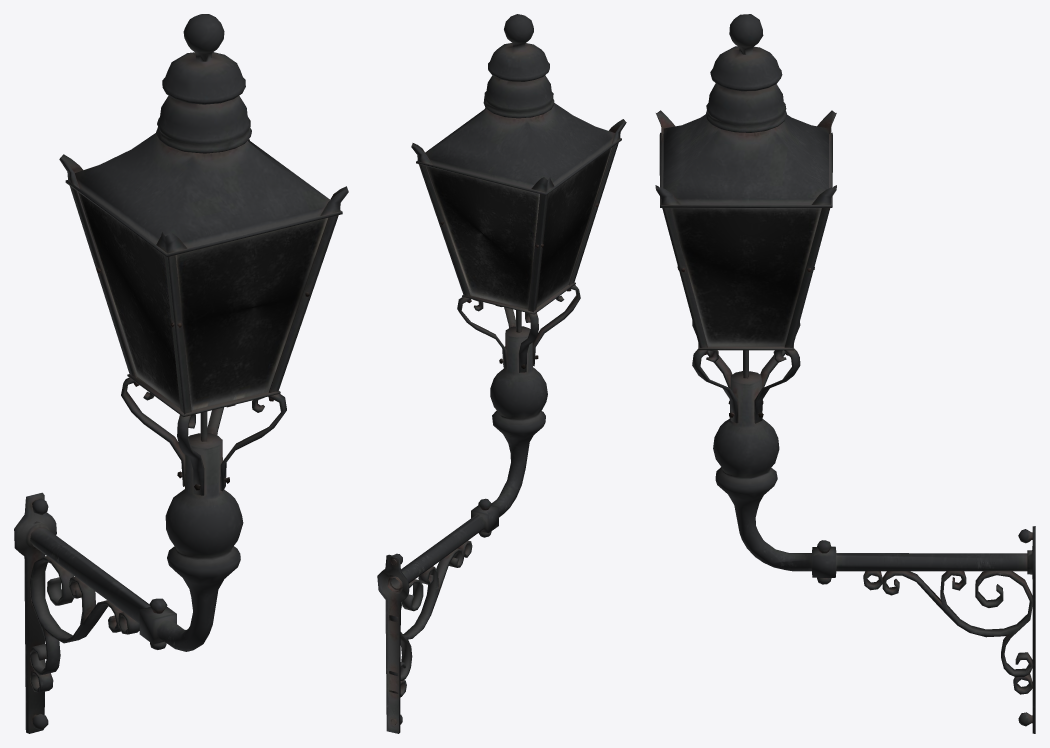
Rendered from street_lamp_02.fbx.
The picture shows the model from 3 angles, left to right: view 1: azimuth 30°, elevation 25°; view 2: azimuth 150°, elevation 25°; view 3: azimuth 270°, elevation 25°; orthographic projection. The views are drawn at different scales.
Parts seen in each view (by area): view 1: street_lamp_02_LOD0; view 2: street_lamp_02_LOD0; view 3: street_lamp_02_LOD0.
Boxes of the visible parts, x1=… form: street_lamp_02_LOD0: x1=14, y1=14, x2=348, y2=733; street_lamp_02_LOD0: x1=377, y1=14, x2=626, y2=733; street_lamp_02_LOD0: x1=655, y1=14, x2=1035, y2=733.
Size of what is drawn, in the model's own units: 38.54 by 167 by 80.63.
3 materials, 3 textured.
